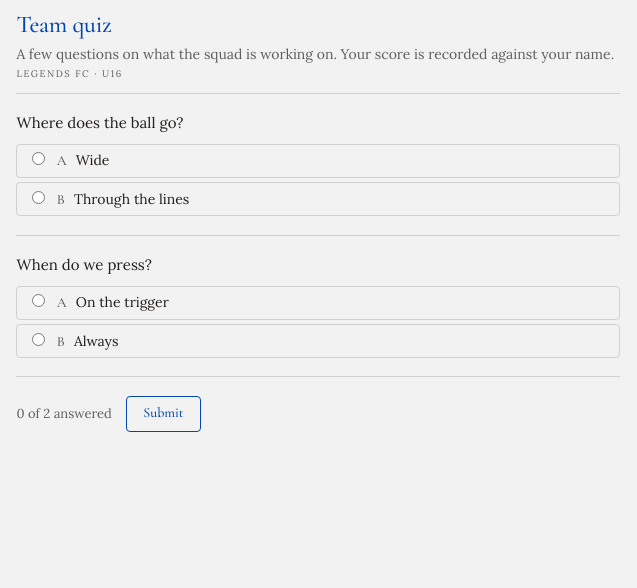
it: MARKING AGAINST THE STORED ANSWERS › marks a right answer right
Click the radio button labelled "B Through the lines": (38, 197) [32,191,45,204]
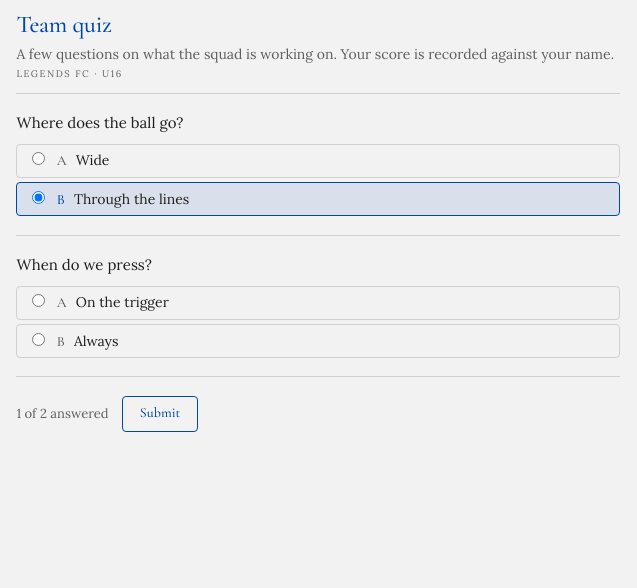
Click the radio button labelled "A On the trigger": (38, 301) [32,294,45,307]
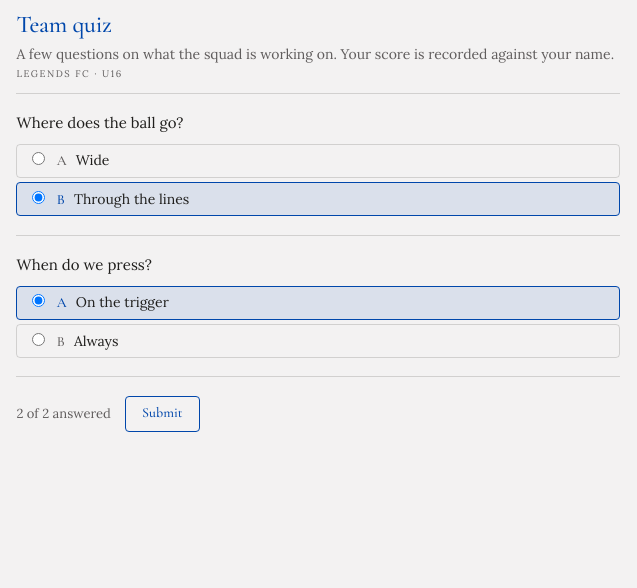
Click the button "Submit": (162, 414) [125,396,200,432]
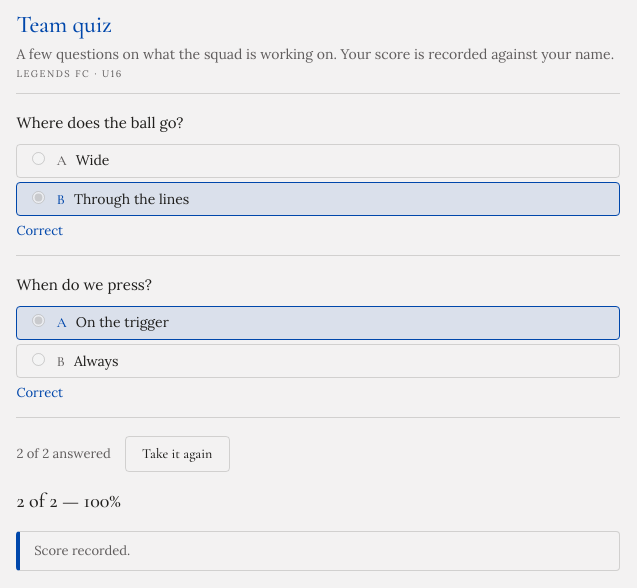
Expected: the message "2 of 2 — 100%" is shown, [16,489,121,513]
